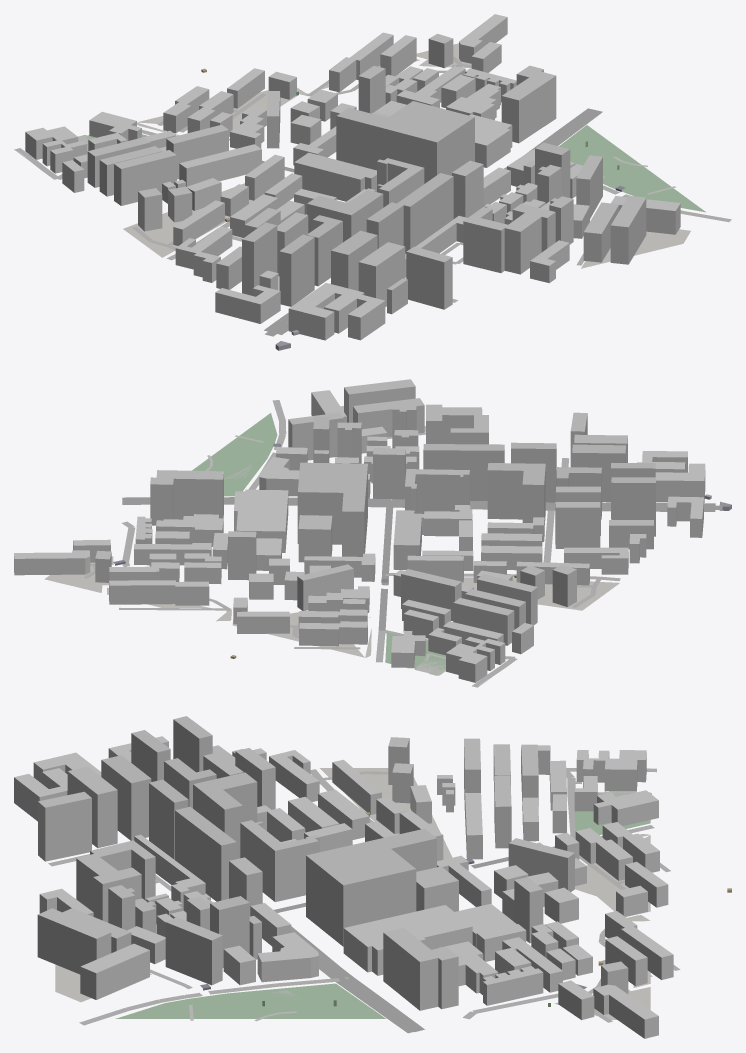
The picture shows the model from 3 angles, top to bottom: view 1: azimuth 30°, elevation 25°; view 2: azimuth 150°, elevation 25°; view 3: azimuth 270°, elevation 25°; orthographic projection. The views are drawn at different scales.
Bounding box in the file's own units: 556 × 67.35 × 603.
